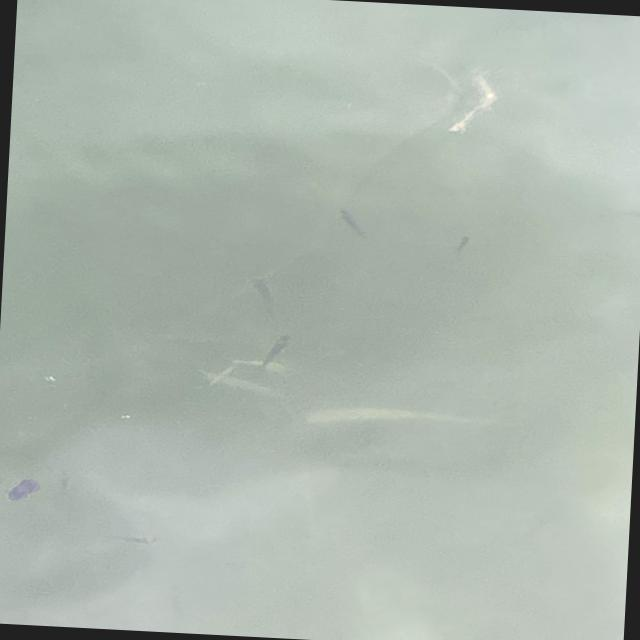Sivrisinek Baligi: (242, 272, 282, 322), (256, 330, 296, 370), (98, 528, 160, 552), (334, 207, 372, 239)
